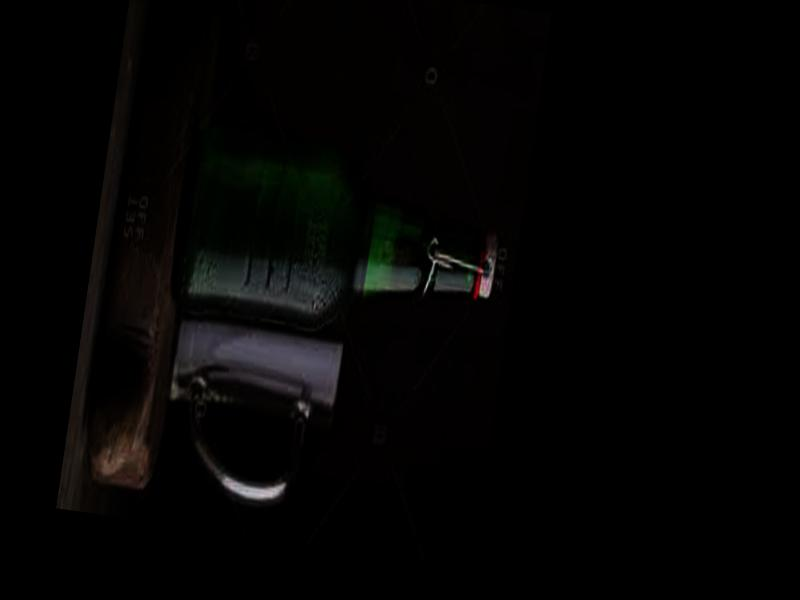Beer: (166, 129, 508, 350)
